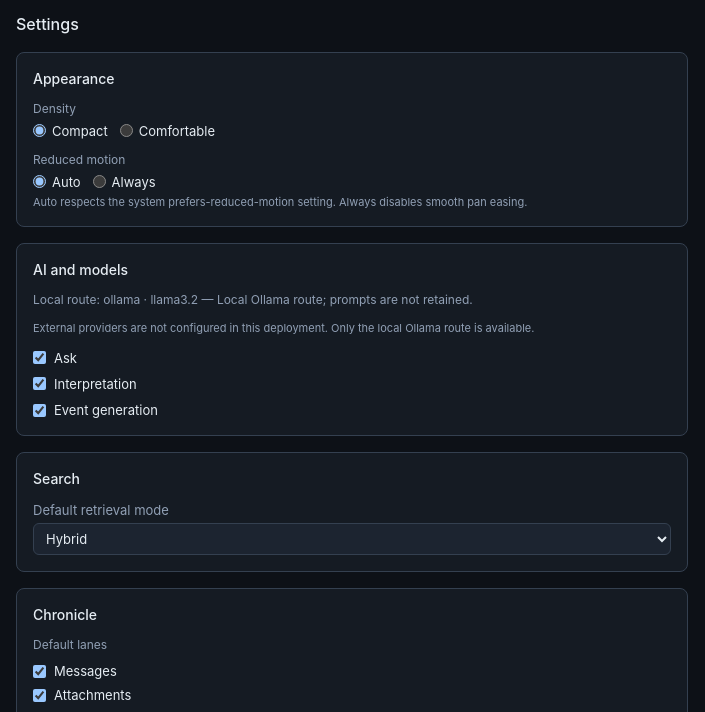
Test: SettingsPage › AI toggle PUTs optimistically
The image size is (705, 712).
Click the checkbox with test id "ai-toggle-ask_enabled": (40, 358) [33,351,46,364]
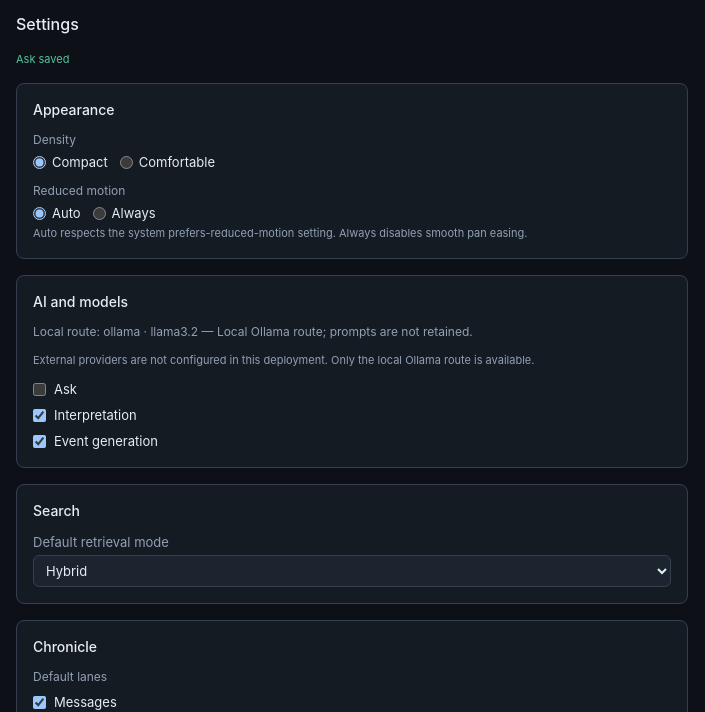
Result: the message with test id "settings-save-hint" shows "saved" at [16,52,70,66]
